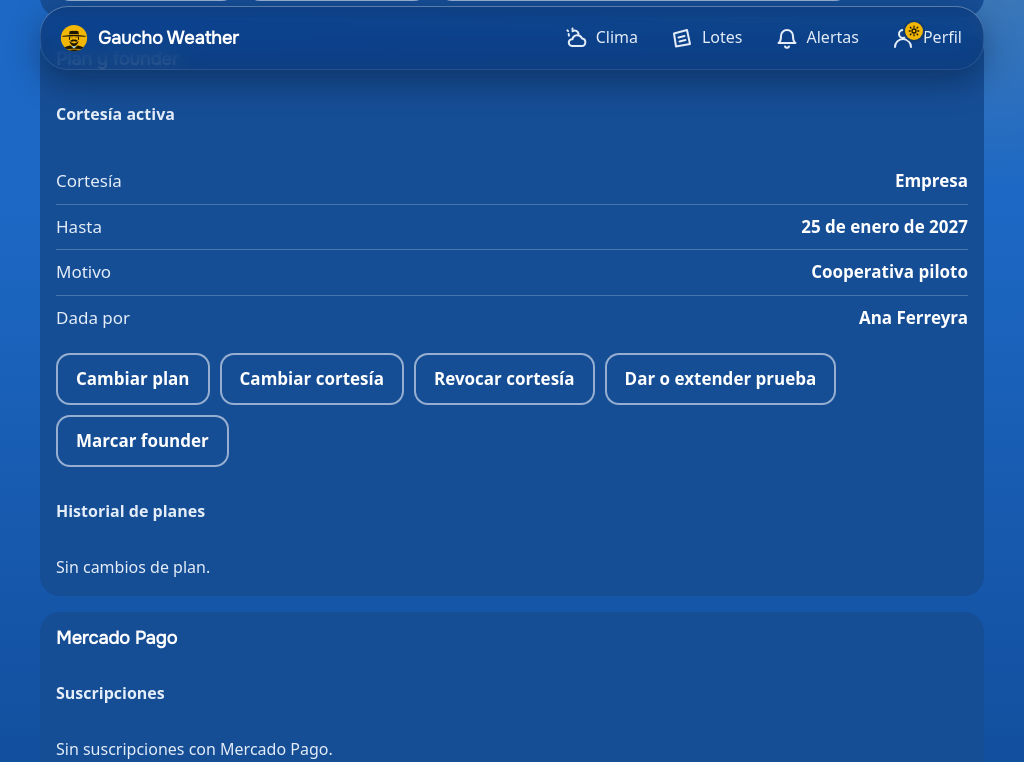
Test: Revoke a cortesía (S5) › shows the active cortesía and revokes it after confirming
(page scrolled)
What coordinates should you click on to do the following:
click the button "Revocar cortesía"
I would click on:
 (504, 379)
Its box is [414, 353, 595, 405].
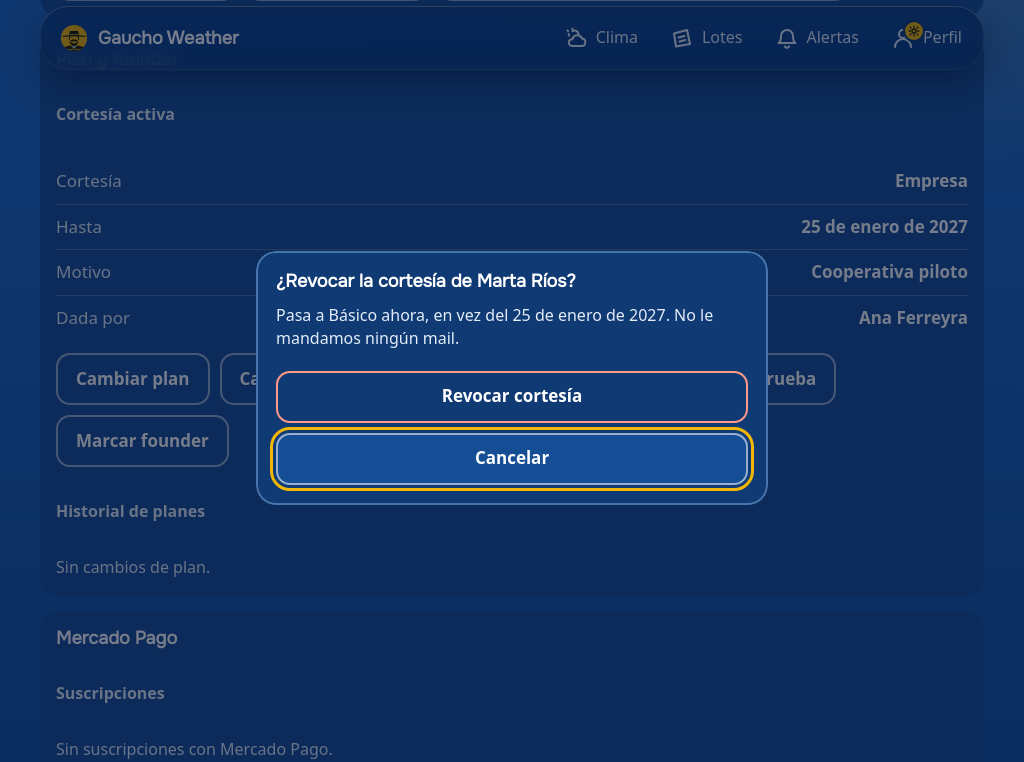
Expected: the dialog "¿Revocar la cortesía de Marta Ríos?" shows "Pasa a Básico ahora", [256, 252, 768, 505]
What coordinates should you click on to do the following:
click the button "Revocar cortesía"
I would click on:
 (512, 396)
Its box is [276, 370, 748, 422].
(page scrolled)
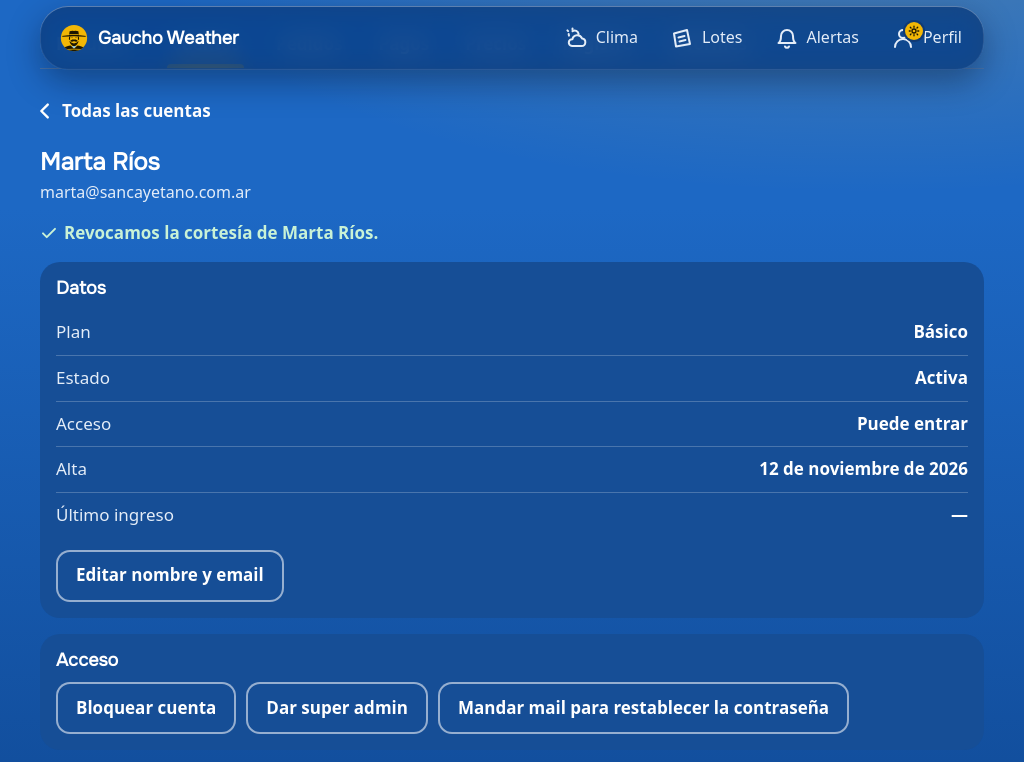
Expected: the text "Revocamos la cortesía de Marta Ríos." is shown, [40, 221, 378, 244]
Expected: the text "Básico" is shown, [913, 320, 968, 345]
Expected: the text "Activa" is shown, [915, 366, 968, 391]
